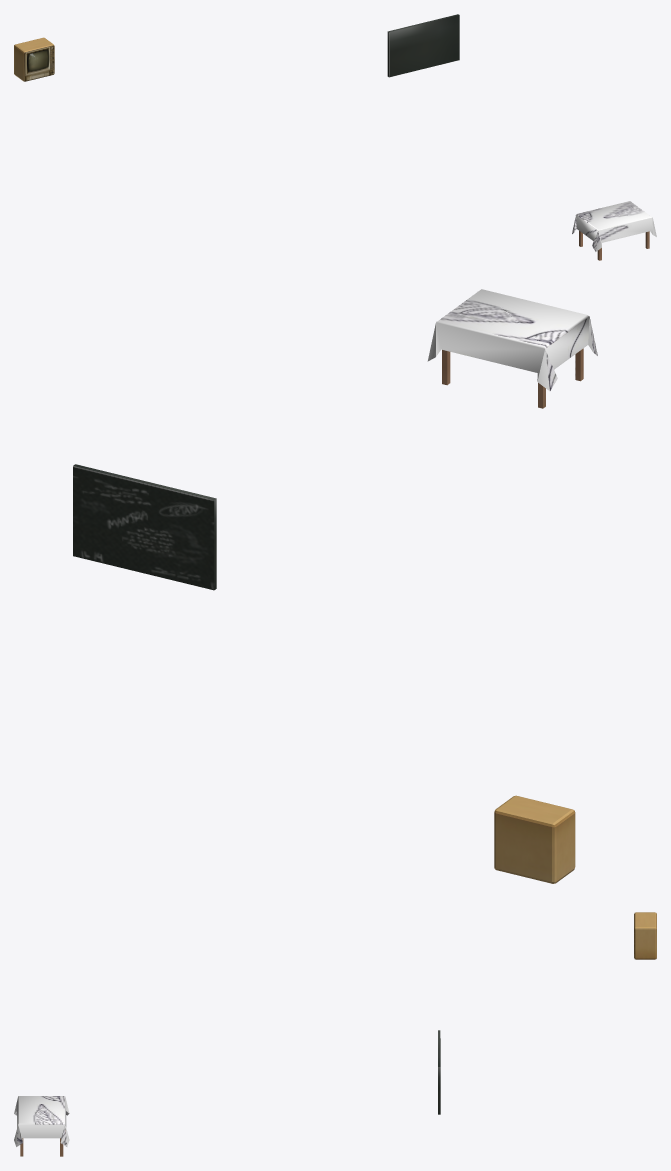
The model's file is Error texture objects_fix.fbx.
3 renders of one model, top to bottom at view 1: azimuth 30°, elevation 25°; view 2: azimuth 150°, elevation 25°; view 3: azimuth 270°, elevation 25°, orthographic. The views are drawn at different scales.
Parts seen in each view (by area): view 1: Painting_06.001, Table, TV; view 2: Painting_06.001, Table, TV; view 3: Table, TV.
Part boxes in pixels (<box>): Painting_06.001: <box>387,14,459,77</box>; Table: <box>572,201,656,260</box>; TV: <box>14,37,54,81</box>; Painting_06.001: <box>73,464,216,590</box>; Table: <box>427,289,597,408</box>; TV: <box>494,795,575,883</box>; Table: <box>14,1096,69,1156</box>; TV: <box>634,912,656,959</box>.
Size of the model in its own units: 7555 by 1845 by 11563.
